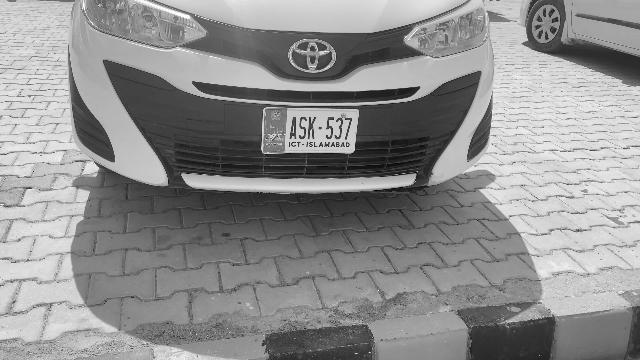Number: (288, 115, 354, 141)
